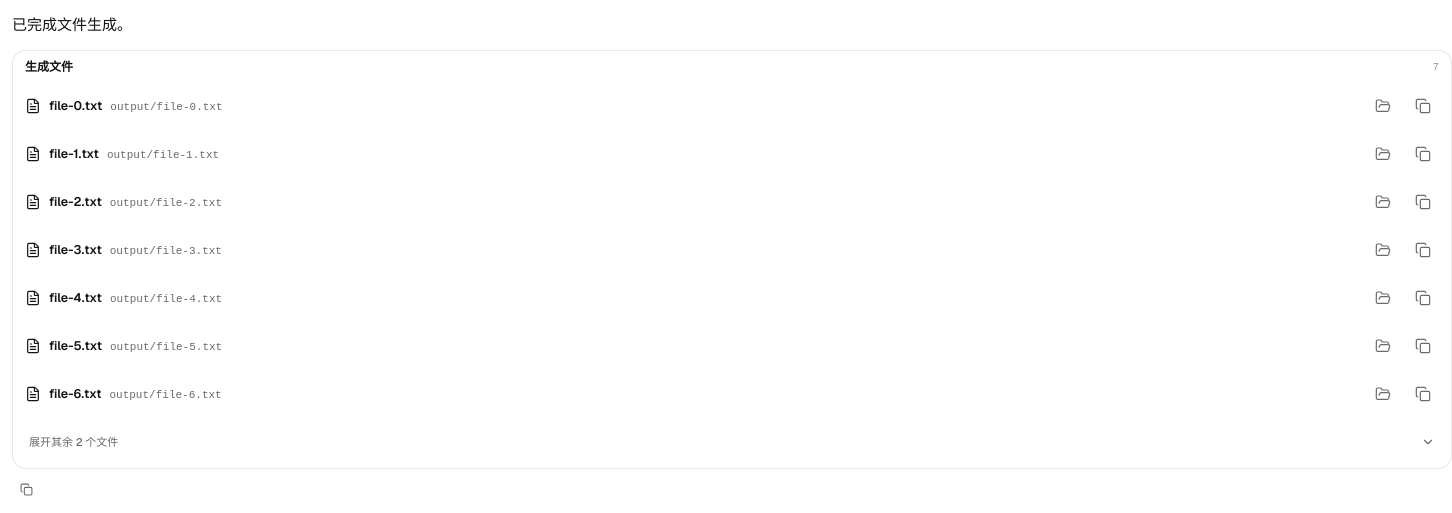
Test: Message file references › collapses long generated file lists and expands them on demand
The width and height of the screenshot is (1452, 513).
Click the button with aria-label "Expand generated files".
click(74, 442)  # box x1=21 y1=424 x2=1443 y2=460
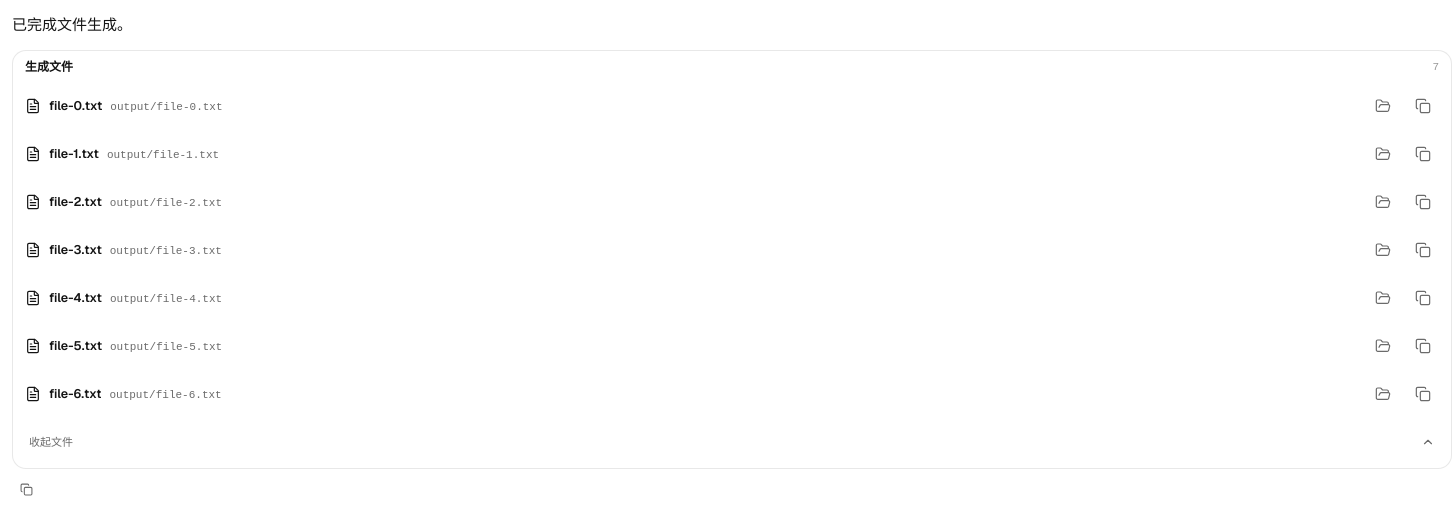
Check: the button with aria-label "Collapse generated files" is expanded, box x1=21 y1=424 x2=1443 y2=460
